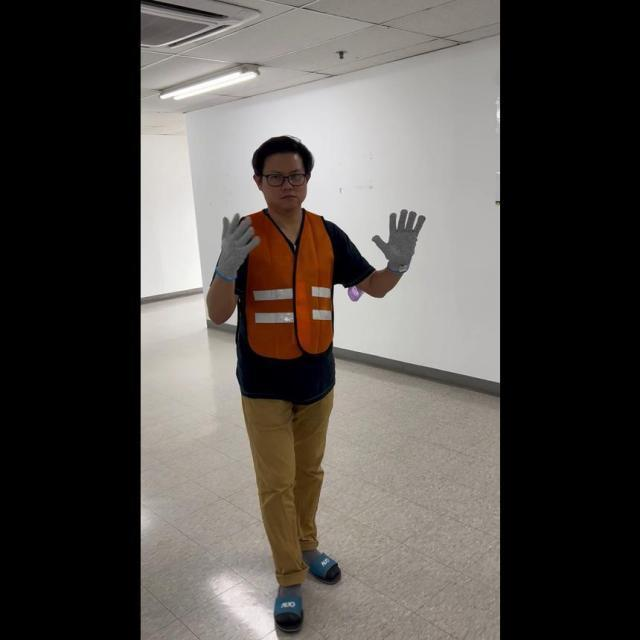gloved_hand: (370, 206, 426, 269), (212, 208, 259, 281)
